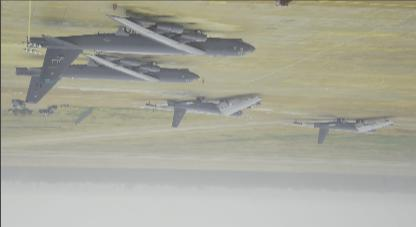B2: (24, 10, 254, 82), (13, 52, 198, 102), (128, 94, 262, 128), (278, 118, 394, 144)
